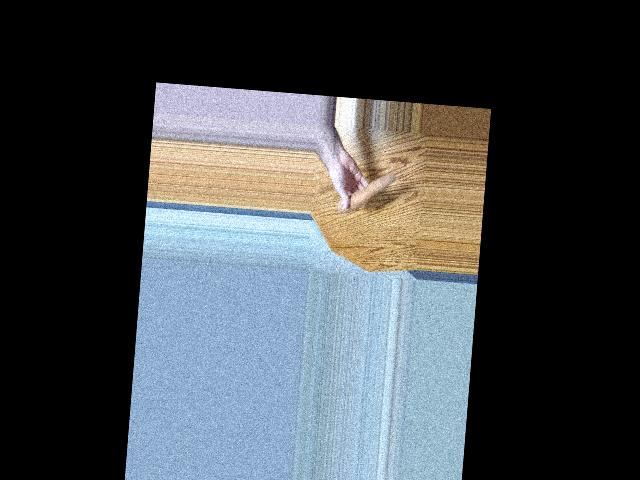sweet_potato: (337, 167, 395, 214)
